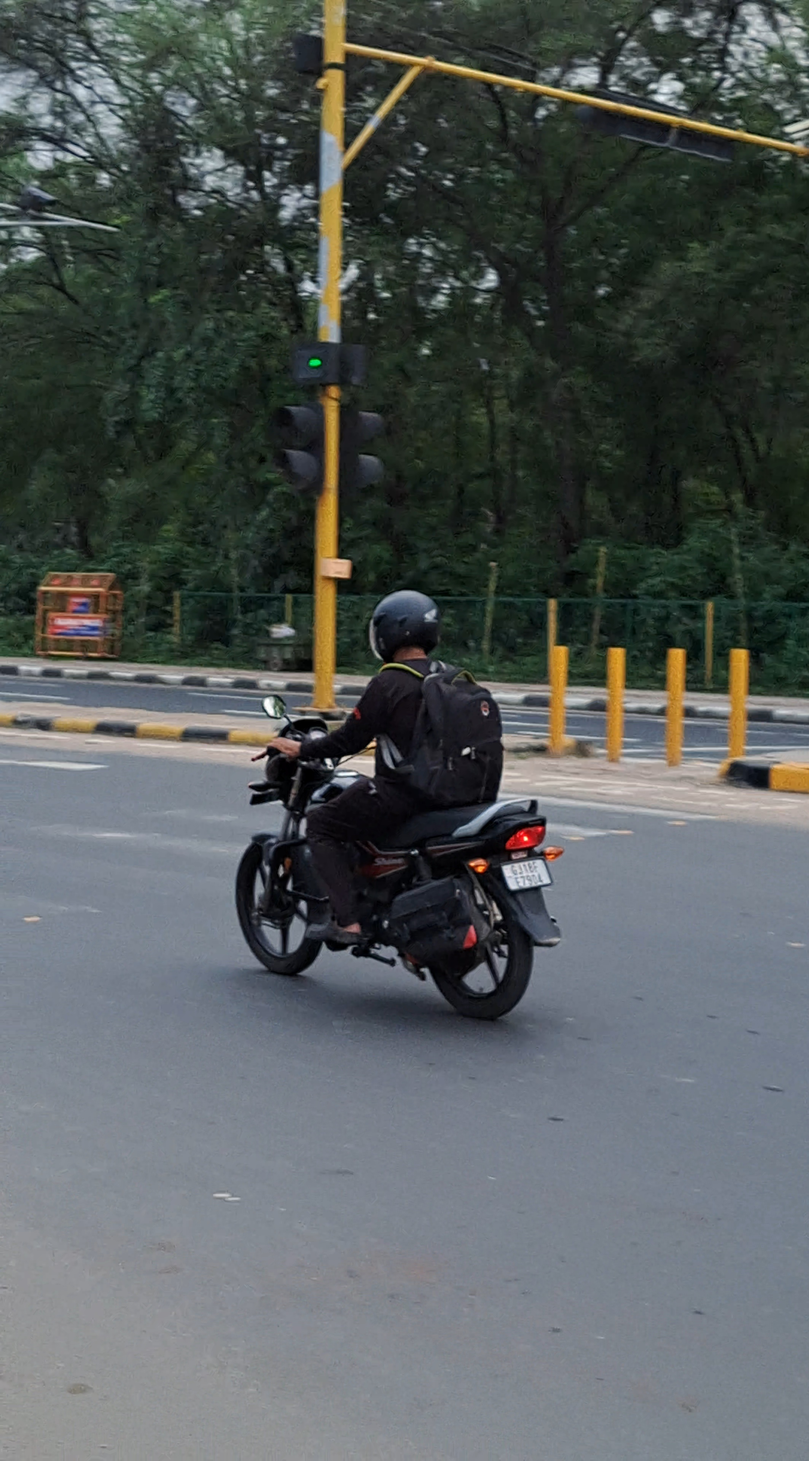BikeWithRider: (207, 564, 609, 1036)
Helmet: (362, 574, 454, 672)
